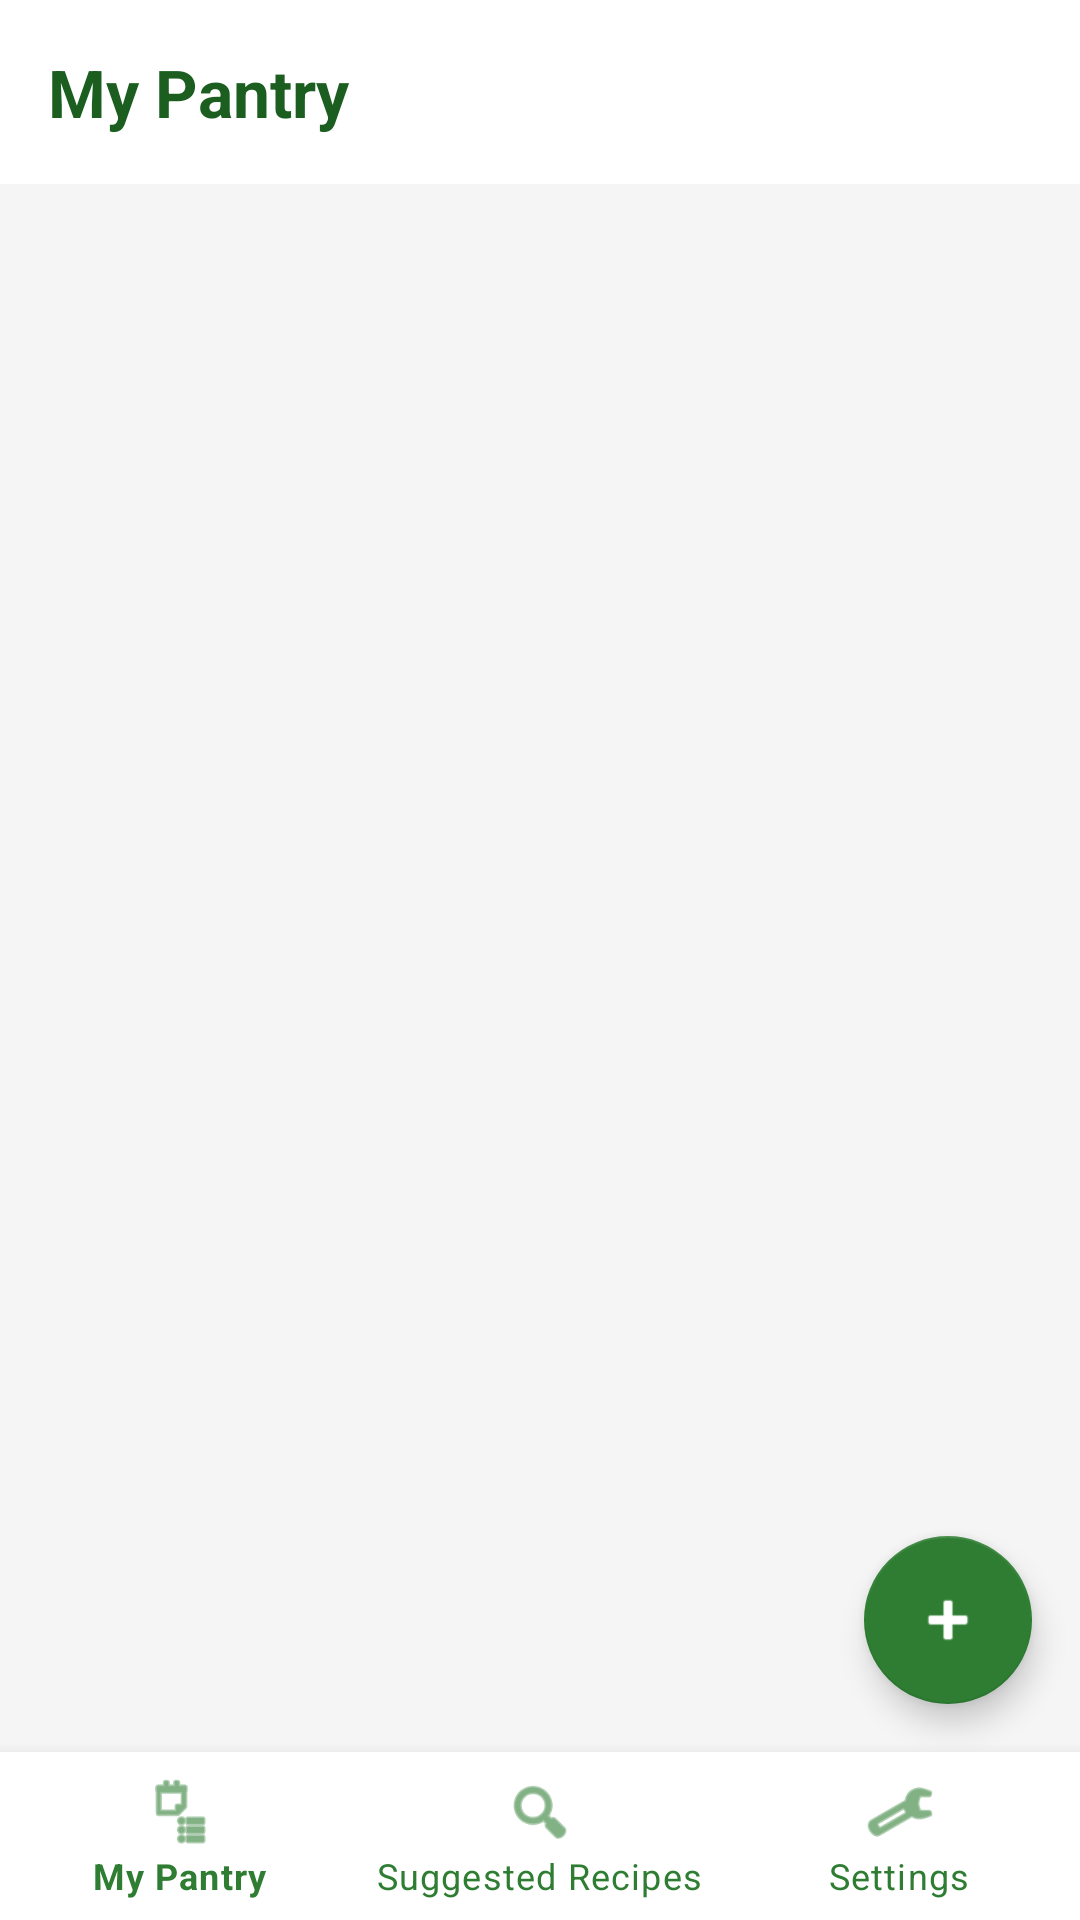

Point at icon controls on the screen. Image size 1080 x 1920, points as (x,y).
add: (948,1620)
